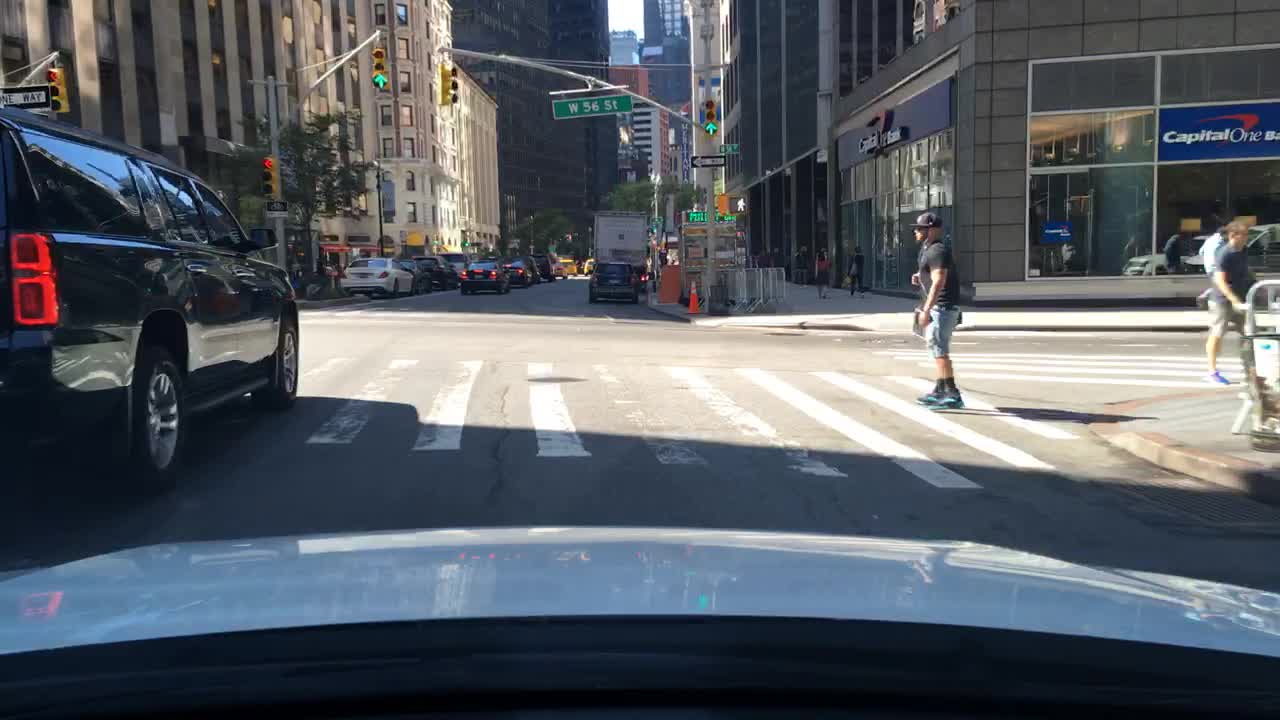car: (0, 110, 300, 519), (1184, 221, 1280, 272), (340, 255, 412, 290), (586, 263, 645, 304), (1117, 250, 1186, 277), (415, 252, 460, 284), (463, 261, 512, 290), (398, 261, 435, 287), (535, 249, 566, 278), (504, 255, 533, 281), (561, 255, 578, 272), (584, 254, 596, 272)
person: (907, 208, 969, 414), (1203, 224, 1258, 383), (1203, 210, 1246, 307), (845, 243, 868, 293), (1058, 234, 1078, 275), (1161, 229, 1178, 272), (794, 243, 813, 280), (816, 247, 830, 297), (768, 244, 785, 266), (754, 247, 768, 267)
traffic light: (45, 67, 70, 113), (437, 61, 460, 110), (262, 150, 278, 196), (369, 44, 384, 89), (702, 92, 718, 132), (401, 227, 426, 245)
traffic sign: (549, 93, 635, 119), (0, 85, 48, 105), (687, 156, 727, 168), (265, 201, 289, 218), (715, 141, 742, 153)
truck: (589, 206, 652, 263)
